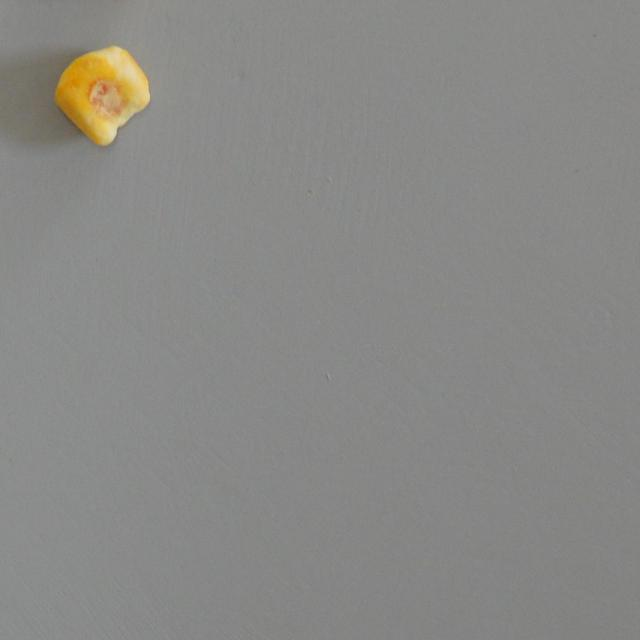dañado: (52, 44, 154, 146)
